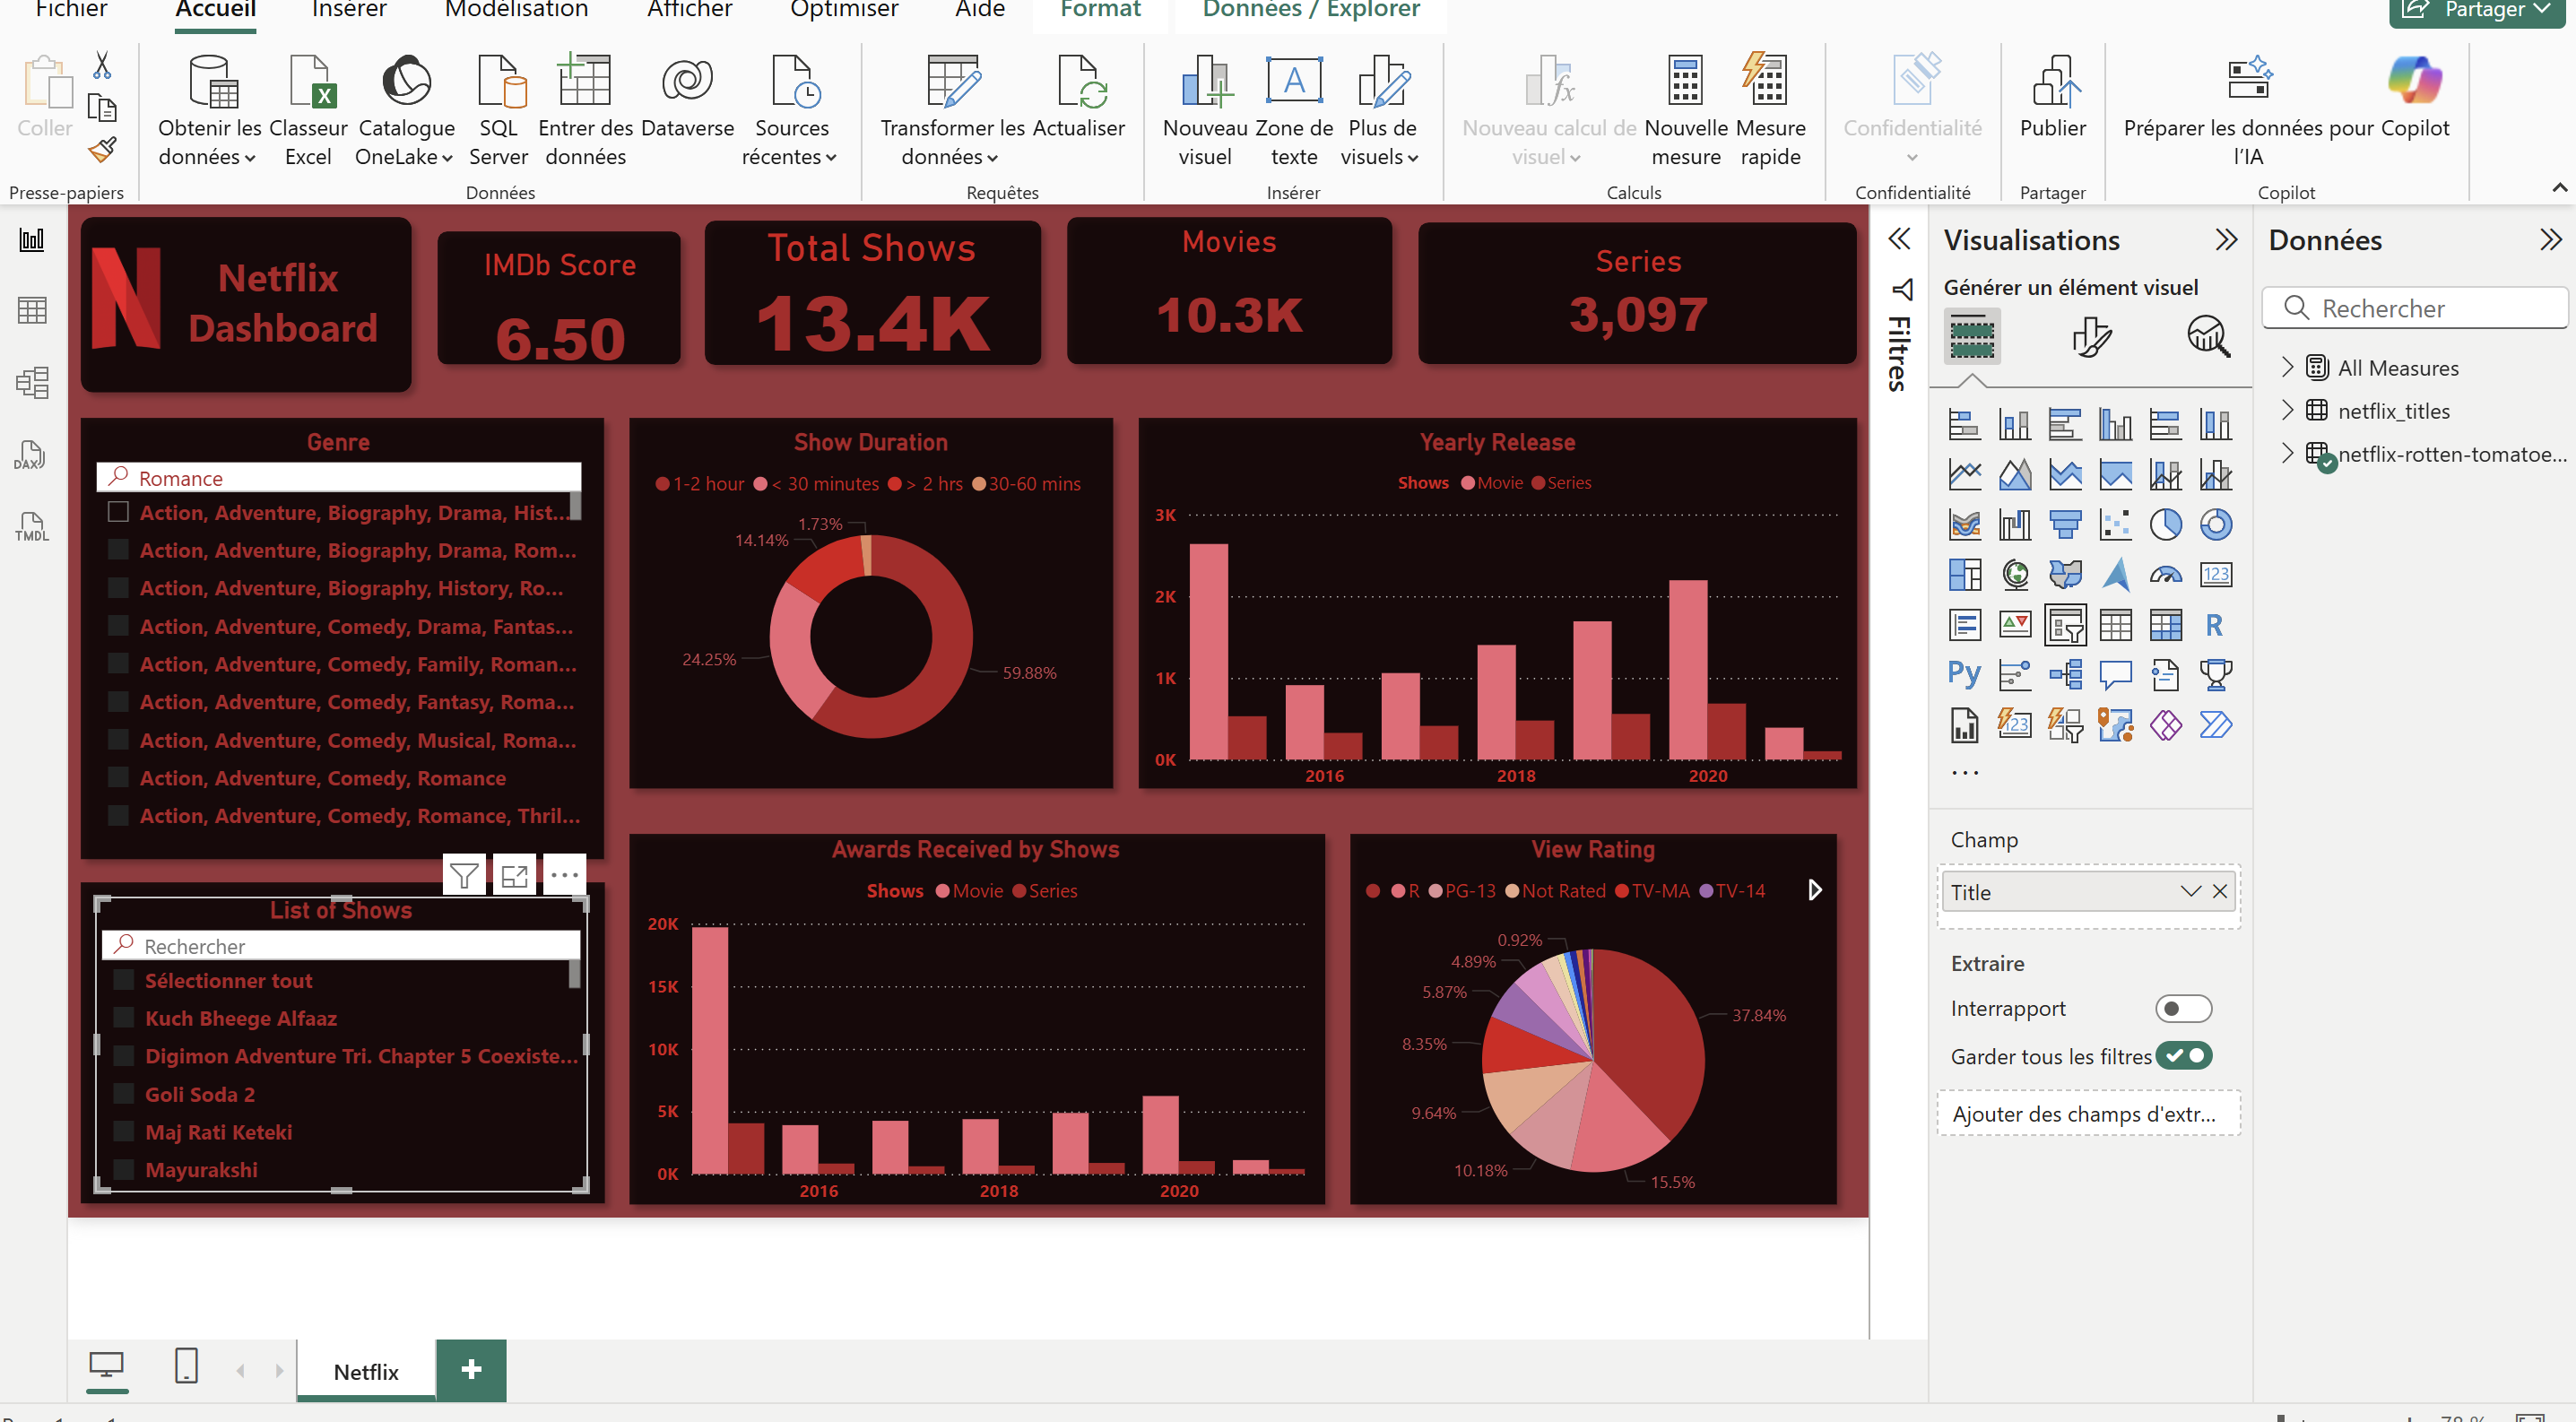

What the dashboard file says about the page in this screenshot:
{"tool":"powerbi","page":{"name":"Netflix","canvas":[1280,720],"ordinal":0},"visuals":[{"type":"shape","box":[0,0,253.3,142.7],"z":0},{"type":"shape","box":[444.3,2,257.3,120.6],"z":2000},{"type":"shape","box":[701.6,0,249.3,122.6],"z":3000},{"type":"shape","box":[950.9,4,329.7,118.6],"z":4000},{"type":"textbox","box":[0,28.1,305.6,88.5],"z":6000},{"type":"card","title":"Total Shows","fields":{"Values":["All Measures.Total Shows"]},"box":[444.3,14.1,255.3,102.5],"z":8000},{"type":"card","title":"Movies","fields":{"Values":["All Measures.Movies"]},"box":[699.6,14.1,251.3,102.5],"z":9000},{"type":"card","title":"Series","fields":{"Values":["All Measures.Series"]},"box":[1007.2,28.1,219.1,74.4],"z":11000},{"type":"shape","box":[751.9,142.7,528.7,281.5],"z":15000},{"type":"clusteredColumnChart","title":"Yearly Release","fields":{"Category":["netflix-rotten-tomatoes-metacritic-imdb.Netflix Release Year"],"Series":["netflix-rotten-tomatoes-metacritic-imdb.Series or Movie"],"Y":["CountNonNull(netflix-rotten-tomatoes-metacritic-imdb.Title)"]},"box":[768,158.8,498.6,265.4],"z":16000},{"type":"shape","box":[253.3,10.1,191,112.6],"z":17000},{"type":"card","title":"IMDb Score","fields":{"Values":["Avg(netflix-rotten-tomatoes-metacritic-imdb.IMDb Score)"]},"box":[267.4,30.2,164.9,102.5],"z":18000},{"type":"shape","box":[390,438.3,512.6,281.5],"z":19000},{"type":"clusteredColumnChart","title":"Awards Received by Shows","fields":{"Series":["netflix-rotten-tomatoes-metacritic-imdb.Series or Movie"],"Y":["Sum(netflix-rotten-tomatoes-metacritic-imdb.Awards Received)"],"Category":["netflix-rotten-tomatoes-metacritic-imdb.Netflix Release Year"]},"box":[406.2,448.4,477.7,270.4],"z":20000},{"type":"shape","box":[902.7,438.3,363.9,281.5],"z":21000},{"type":"pieChart","title":"View Rating","fields":{"Category":["netflix-rotten-tomatoes-metacritic-imdb.View Rating"],"Y":["CountNonNull(netflix-rotten-tomatoes-metacritic-imdb.Title)"]},"box":[916.7,448.3,335.7,271.4],"z":22000},{"type":"shape","box":[390,142.7,361.9,281.5],"z":23000},{"type":"donutChart","title":"Show Duration","fields":{"Category":["netflix-rotten-tomatoes-metacritic-imdb.Runtime"],"Y":["CountNonNull(netflix-rotten-tomatoes-metacritic-imdb.Title)"]},"box":[390,158.8,361.9,247.3],"z":24000},{"type":"image","box":[0,10.1,82.4,112.6],"z":25000},{"type":"shape","box":[0,473.4,390.6,246.2],"z":29000},{"type":"shape","box":[0,142.7,390,331.7],"z":30000},{"type":"slicer","title":"Genre","fields":{"Values":["netflix-rotten-tomatoes-metacritic-imdb.Genre"]},"box":[14.9,159.2,354.5,288.7],"z":31000},{"type":"slicer","title":"List of Shows","fields":{"Values":["netflix-rotten-tomatoes-metacritic-imdb.Title"]},"box":[19.1,492.5,350.2,210.1],"z":32000}]}

Visuals, with their boxes on the page's 1280x720 design canvas (x1, y1, x2, y2). These are canvas units, not pixel positions in the 2576x1422 screenshot, which may show the page scaled, cropped or inside an application window:
shape: pyautogui.locateOnScreen(0, 0, 253, 143)
shape: pyautogui.locateOnScreen(444, 2, 702, 123)
shape: pyautogui.locateOnScreen(702, 0, 951, 123)
shape: pyautogui.locateOnScreen(951, 4, 1281, 123)
textbox: pyautogui.locateOnScreen(0, 28, 306, 117)
"Total Shows" card: pyautogui.locateOnScreen(444, 14, 700, 117)
"Movies" card: pyautogui.locateOnScreen(700, 14, 951, 117)
"Series" card: pyautogui.locateOnScreen(1007, 28, 1226, 102)
shape: pyautogui.locateOnScreen(752, 143, 1281, 424)
"Yearly Release" clusteredColumnChart: pyautogui.locateOnScreen(768, 159, 1267, 424)
shape: pyautogui.locateOnScreen(253, 10, 444, 123)
"IMDb Score" card: pyautogui.locateOnScreen(267, 30, 432, 133)
shape: pyautogui.locateOnScreen(390, 438, 903, 720)
"Awards Received by Shows" clusteredColumnChart: pyautogui.locateOnScreen(406, 448, 884, 719)
shape: pyautogui.locateOnScreen(903, 438, 1267, 720)
"View Rating" pieChart: pyautogui.locateOnScreen(917, 448, 1252, 720)
shape: pyautogui.locateOnScreen(390, 143, 752, 424)
"Show Duration" donutChart: pyautogui.locateOnScreen(390, 159, 752, 406)
image: pyautogui.locateOnScreen(0, 10, 82, 123)
shape: pyautogui.locateOnScreen(0, 473, 391, 720)
shape: pyautogui.locateOnScreen(0, 143, 390, 474)
"Genre" slicer: pyautogui.locateOnScreen(15, 159, 369, 448)
"List of Shows" slicer: pyautogui.locateOnScreen(19, 492, 369, 703)
